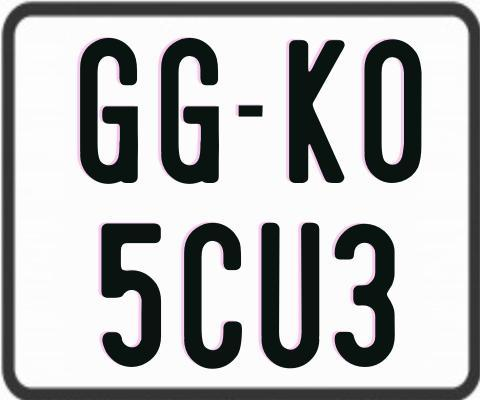0: (361, 36, 423, 183)
3: (332, 223, 393, 372)
5: (98, 221, 161, 367)
C: (182, 223, 246, 371)
G: (161, 36, 225, 182), (79, 35, 139, 183)
K: (286, 39, 347, 187)
U: (260, 221, 324, 368)
